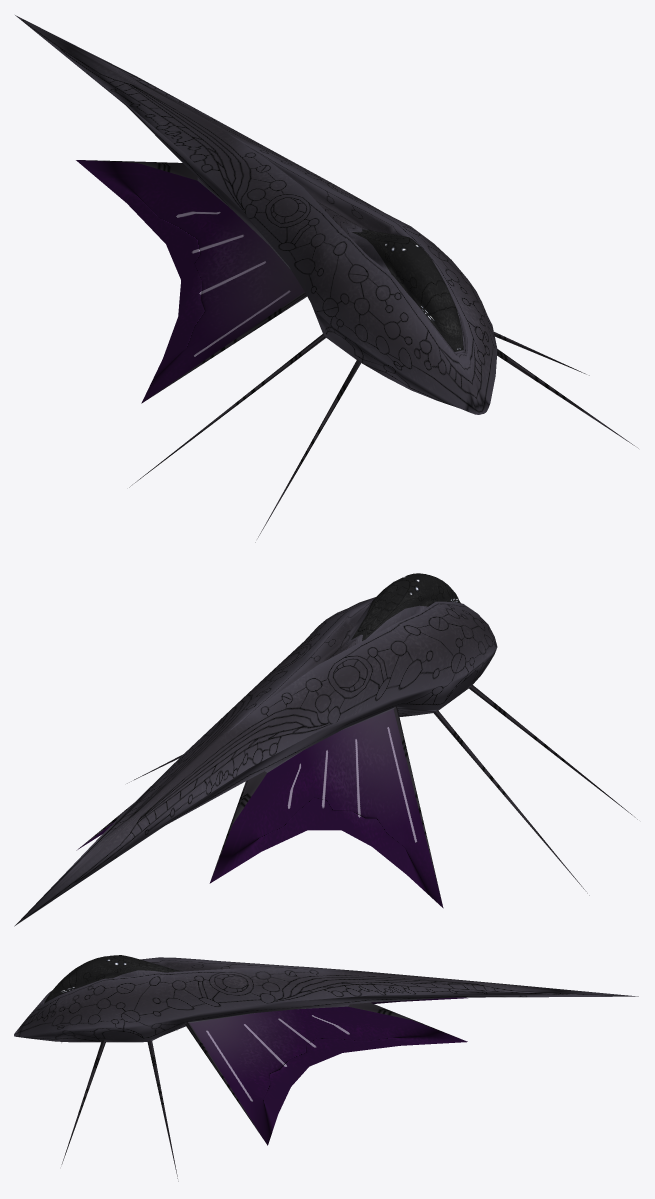
Rendered from Shizong-Hi.obj.
3 views of the same model, one above another, from view 1: azimuth 30°, elevation 25°; view 2: azimuth 150°, elevation 25°; view 3: azimuth 270°, elevation 25° (orthographic). The views are drawn at different scales.
Visible parts, largest first — view 1: object1; view 2: object1; view 3: object1.
Part boxes in pixels (x1,y1,x2,y2): object1: (15, 15, 638, 542); object1: (14, 573, 637, 926); object1: (14, 955, 638, 1181).
Bounding box in the file's own units: 26.44 × 12.22 × 45.89.
